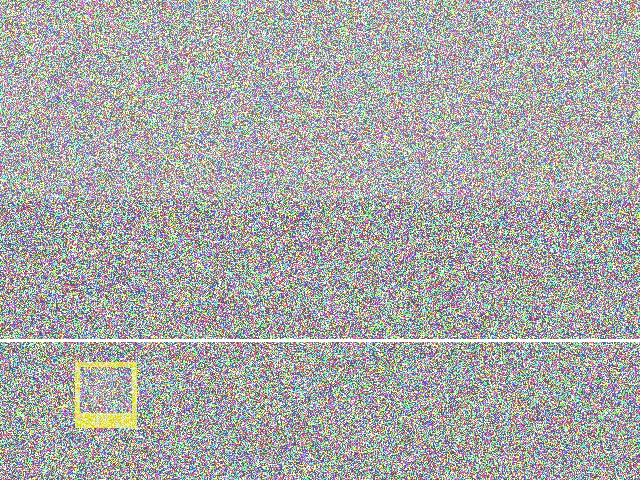car: (34, 239, 128, 372), (82, 343, 223, 431)
truck: (348, 274, 516, 412)
